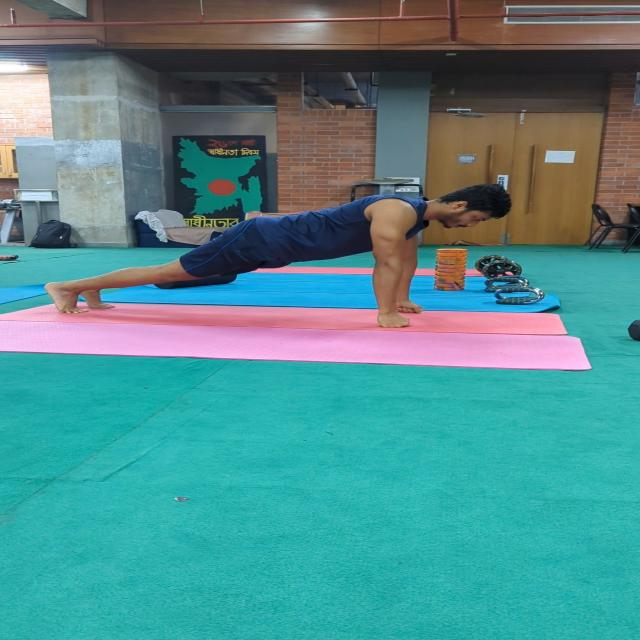Normal_PushUps: (51, 178, 534, 345)
